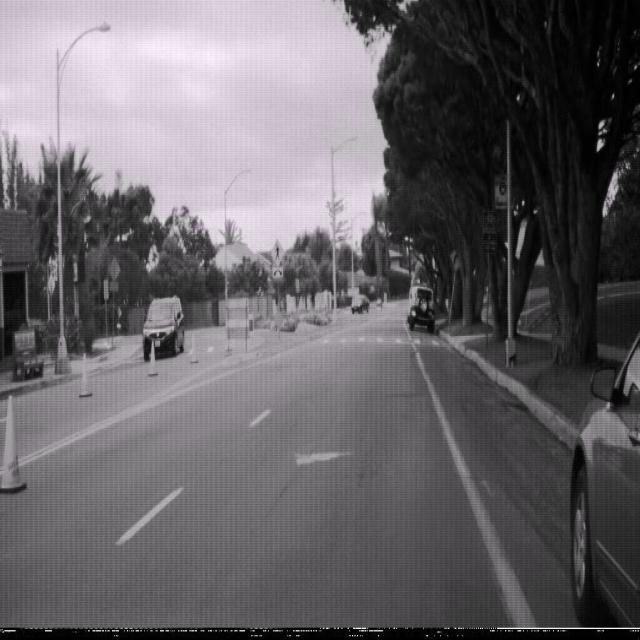pedestrianCrossing: (269, 238, 285, 268)
